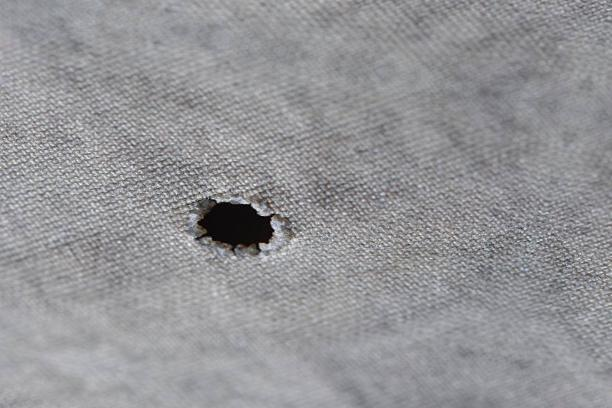hole: (183, 192, 299, 261)
